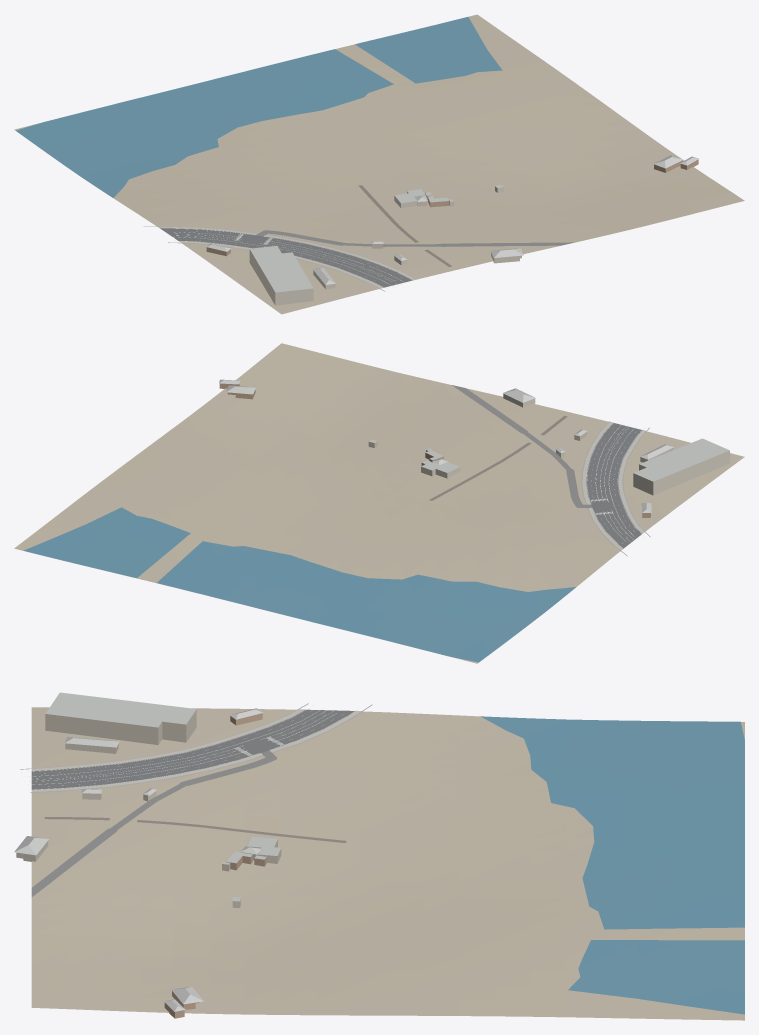
Rendered from bolak_9_-13.glb.
3 views of the same model, one above another, from view 1: azimuth 30°, elevation 25°; view 2: azimuth 150°, elevation 25°; view 3: azimuth 270°, elevation 25° (orthographic). The views are drawn at different scales.
Parts seen in each view (by area): view 1: Yer_Tuproq-col, Suv, Yol_Asfalt-col, Tom_Shifer, Devor_Suvoq-col, Yol_Mahalla-col, Trotuar, Devor_Gisht-col; view 2: Yer_Tuproq-col, Suv, Yol_Asfalt-col, Tom_Shifer, Devor_Suvoq-col, Yol_Mahalla-col, Trotuar, Yol_Chiziq; view 3: Yer_Tuproq-col, Suv, Yol_Asfalt-col, Tom_Shifer, Devor_Suvoq-col, Trotuar, Yol_Mahalla-col, Yol_Chiziq, Temir_Yol, Devor_Gisht-col, Ariq.
Boxes of the visible parts, x1,y1,x2,y2 form: Yer_Tuproq-col: (14,14,744,314); Suv: (16,17,502,197); Yol_Asfalt-col: (160,228,412,287); Tom_Shifer: (206,155,698,292); Devor_Suvoq-col: (249,186,521,305); Yol_Mahalla-col: (256,230,574,246); Trotuar: (158,226,415,288); Devor_Gisht-col: (206,159,698,256); Yer_Tuproq-col: (14,343,744,663); Suv: (23,507,575,662); Yol_Asfalt-col: (586,423,642,548); Tom_Shifer: (219,379,729,512); Devor_Suvoq-col: (368,393,729,495); Yol_Mahalla-col: (452,385,592,508); Trotuar: (582,422,645,549); Yol_Chiziq: (586,423,644,543); Yer_Tuproq-col: (31,707,744,1020); Suv: (480,716,744,1014); Yol_Asfalt-col: (31,709,354,789); Tom_Shifer: (14,692,280,1011); Devor_Suvoq-col: (16,709,281,907); Trotuar: (31,709,361,791); Yol_Mahalla-col: (31,750,277,896); Yol_Chiziq: (21,705,342,789); Temir_Yol: (44,817,346,842); Devor_Gisht-col: (164,713,266,1018); Ariq: (20,703,372,792).
Size of what is drawn, in the model's own units: 416 by 19.96 by 410.
